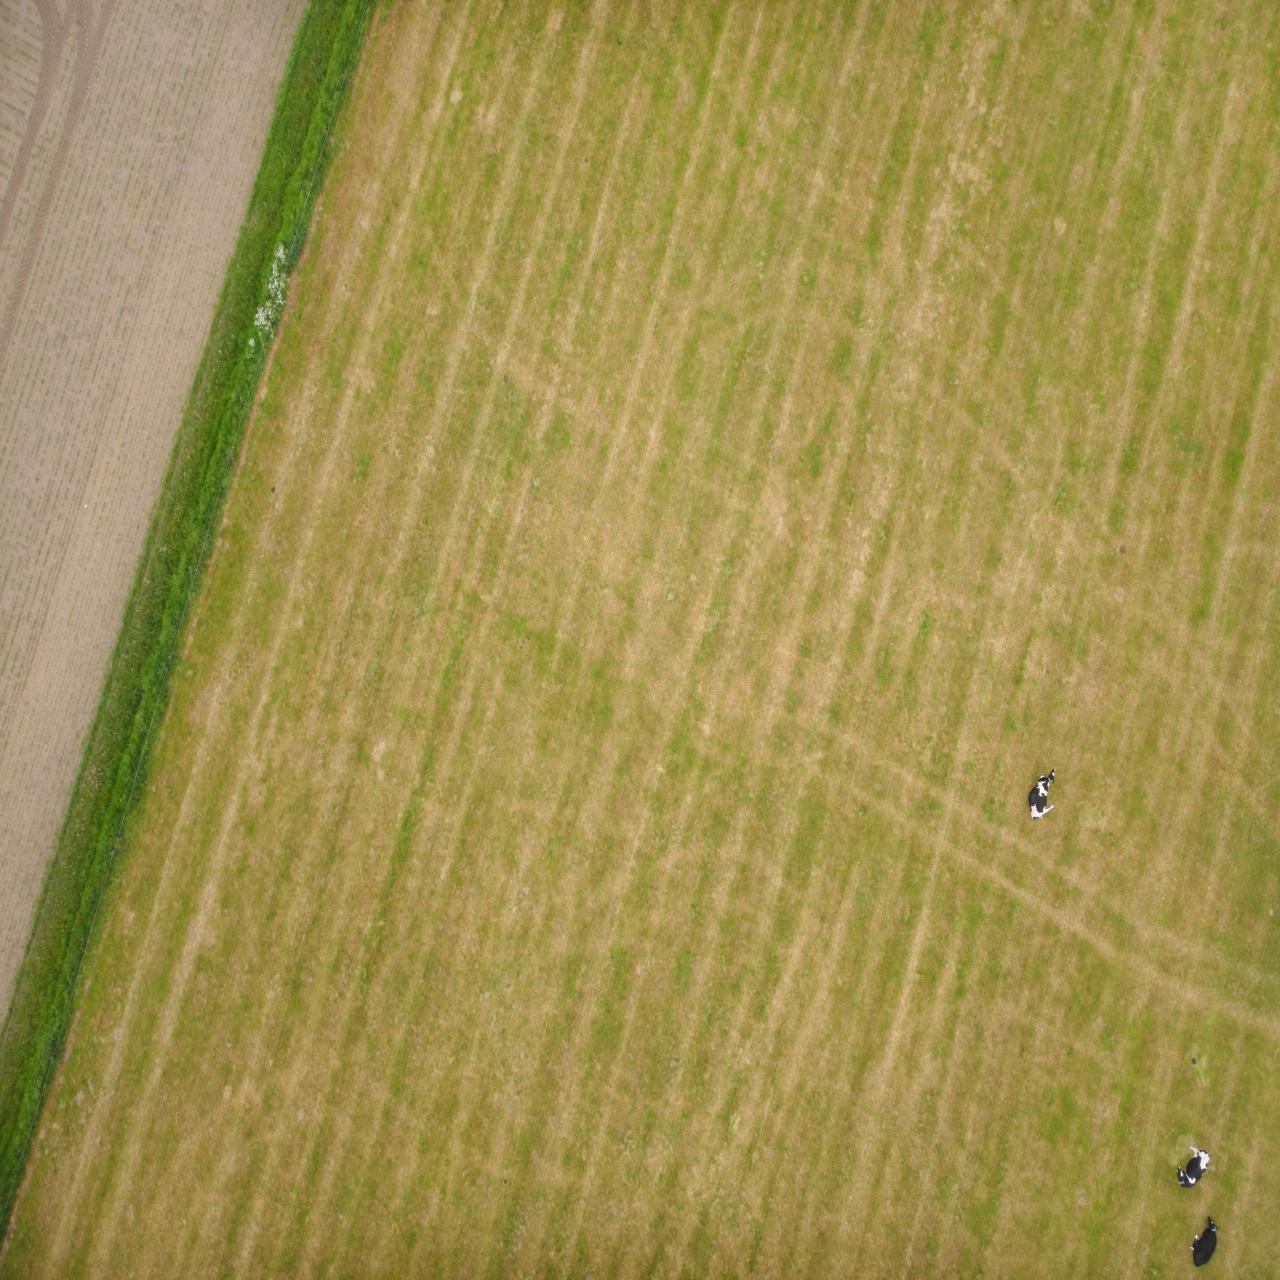cow: (61, 13, 89, 63), (70, 91, 103, 134), (225, 459, 251, 511)
